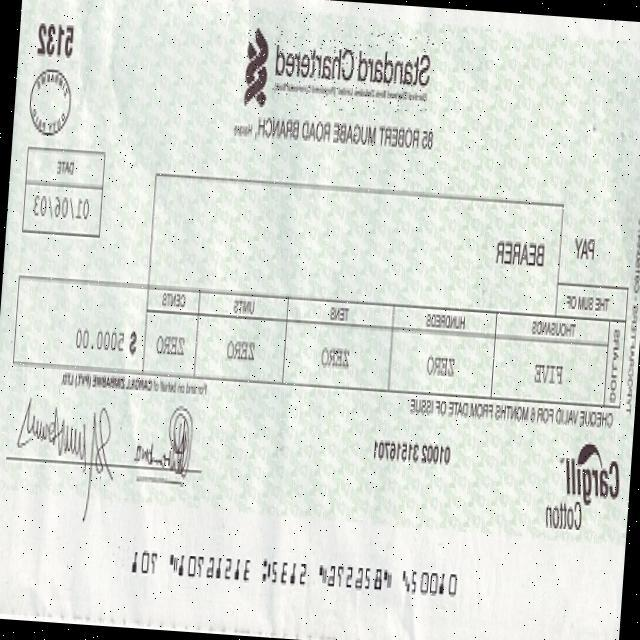Standard Chartered: (242, 23, 434, 116)
